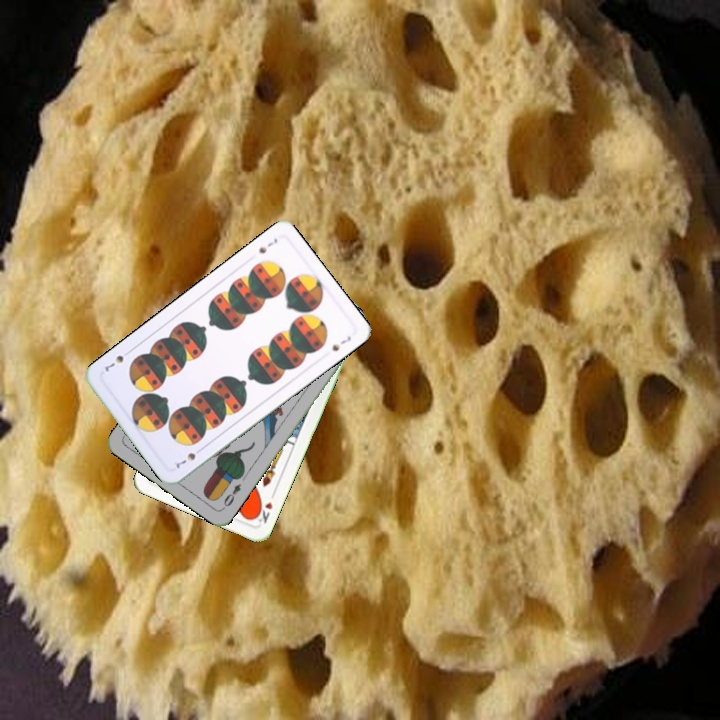EO: (219, 480, 244, 512)
HK: (251, 498, 275, 526)
S7: (172, 443, 206, 471), (255, 234, 280, 256)
